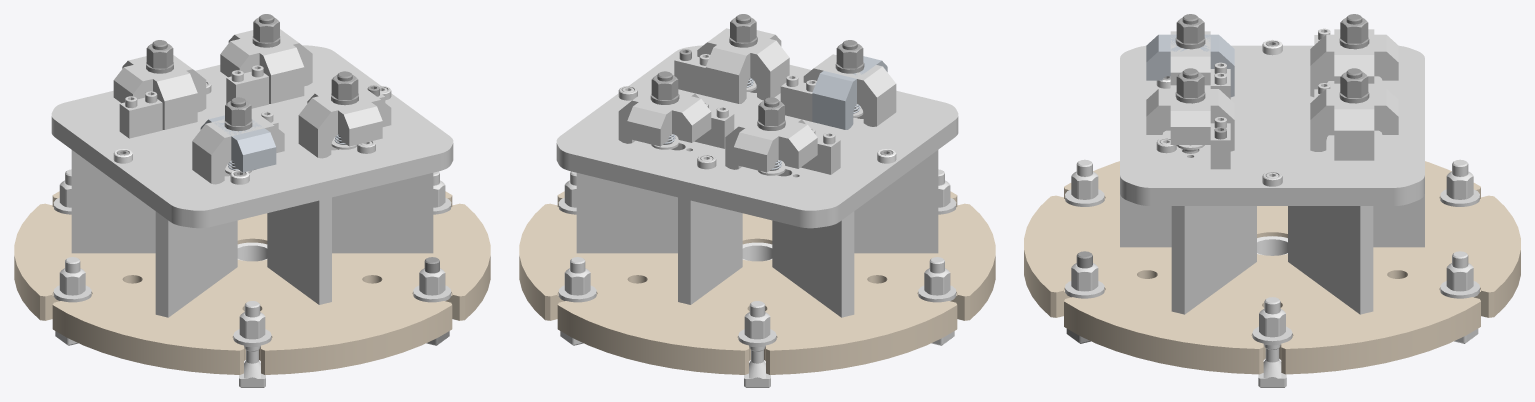
3 renders of one model, left to right at view 1: azimuth 30°, elevation 25°; view 2: azimuth 150°, elevation 25°; view 3: azimuth 270°, elevation 25°, orthographic. The views are drawn at different scales.
Visible parts, largest first — view 1: 1, 4, 7, 5, 6, 3, 11, 33, 45, 21, 10, 32 (+13 smaller); view 2: 1, 4, 8, 6, 5, 2, 32, 10, 11, 33, 46, 22 (+15 smaller); view 3: 1, 4, 7, 8, 45, 21, 46, 2, 3, 32, 10, 33 (+14 smaller).
Boxes of the visible parts, x1=… form: 1: x1=14, y1=191, x2=490, y2=374; 4: x1=51, y1=45, x2=453, y2=228; 7: x1=332, y1=173, x2=433, y2=253; 5: x1=71, y1=150, x2=155, y2=253; 6: x1=155, y1=211, x2=237, y2=317; 3: x1=267, y1=197, x2=331, y2=304; 11: x1=192, y1=111, x2=284, y2=184; 33: x1=298, y1=85, x2=391, y2=158; 45: x1=228, y1=30, x2=304, y2=103; 21: x1=122, y1=56, x2=197, y2=129; 10: x1=200, y1=115, x2=276, y2=172; 32: x1=307, y1=89, x2=382, y2=146; 1: x1=519, y1=191, x2=995, y2=374; 4: x1=556, y1=45, x2=958, y2=228; 8: x1=576, y1=173, x2=677, y2=253; 6: x1=854, y1=150, x2=938, y2=253; 5: x1=772, y1=211, x2=854, y2=317; 2: x1=678, y1=197, x2=742, y2=304; 32: x1=705, y1=30, x2=781, y2=103; 10: x1=812, y1=56, x2=887, y2=129; 11: x1=803, y1=54, x2=896, y2=126; 33: x1=697, y1=28, x2=789, y2=100; 46: x1=618, y1=86, x2=711, y2=143; 22: x1=725, y1=112, x2=817, y2=169; 1: x1=1024, y1=161, x2=1520, y2=374; 4: x1=1120, y1=45, x2=1424, y2=205; 7: x1=1171, y1=206, x2=1256, y2=314; 8: x1=1288, y1=206, x2=1373, y2=314; 45: x1=1310, y1=89, x2=1398, y2=151; 21: x1=1310, y1=34, x2=1398, y2=97; 46: x1=1334, y1=83, x2=1374, y2=160; 2: x1=1373, y1=194, x2=1424, y2=247; 3: x1=1120, y1=194, x2=1171, y2=247; 32: x1=1146, y1=89, x2=1234, y2=151; 10: x1=1146, y1=34, x2=1234, y2=97; 33: x1=1170, y1=85, x2=1210, y2=144.
Bounding box in the file's own units: 619 × 340 × 619.
